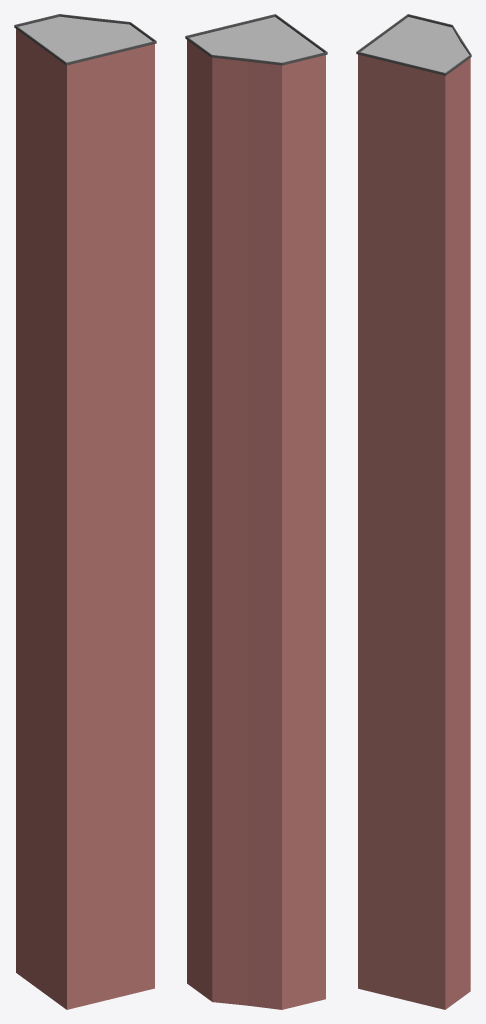
File: Building4.fbx
3 views of the same model, side by side, from view 1: azimuth 30°, elevation 25°; view 2: azimuth 210°, elevation 25°; view 3: azimuth 330°, elevation 25° (orthographic).
Parts seen in each view (by area): view 1: Cube; view 2: Cube; view 3: Cube.
Boxes of the visible parts, box(x1,y1,x2,y2) form: Cube: box(14, 14, 156, 1009); Cube: box(185, 14, 327, 1009); Cube: box(356, 14, 471, 1009).
Size of the model in its own units: 400 by 4006 by 400.
